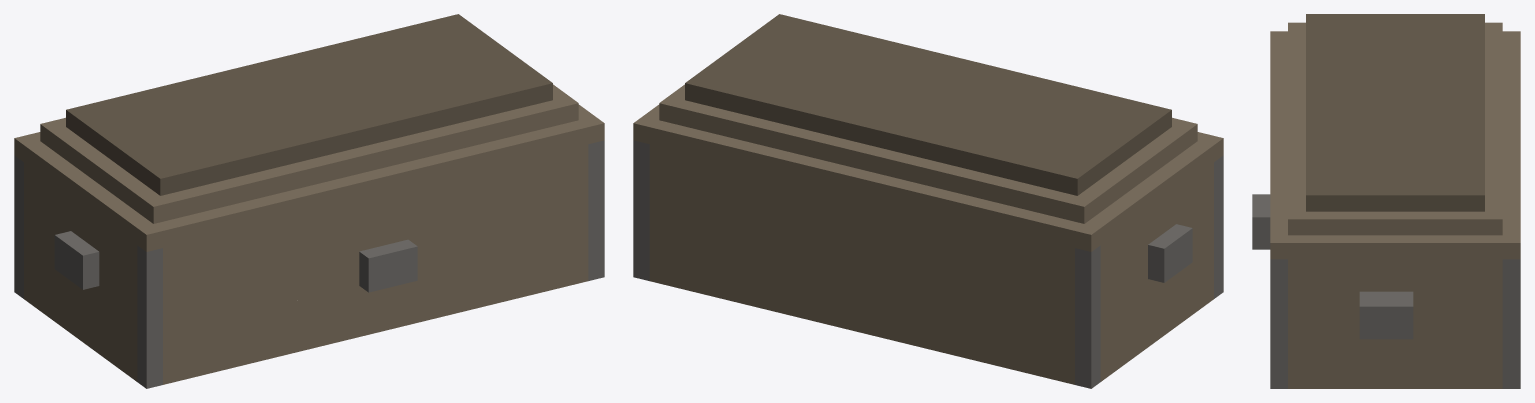
File: arcon_tratado_reforzado_01.glb
3 renders of one model, left to right at view 1: azimuth 30°, elevation 25°; view 2: azimuth 150°, elevation 25°; view 3: azimuth 270°, elevation 25°, orthographic. The views are drawn at different scales.
Parts seen in each view (by area): view 1: arcon_tratado_reforzado; view 2: arcon_tratado_reforzado; view 3: arcon_tratado_reforzado.
Part boxes in pixels (x1=…): arcon_tratado_reforzado: x1=14, y1=14, x2=604, y2=388; arcon_tratado_reforzado: x1=633, y1=14, x2=1223, y2=388; arcon_tratado_reforzado: x1=1252, y1=14, x2=1520, y2=388.
Size of the model in its own units: 2.21 by 0.7857 by 1.07.
